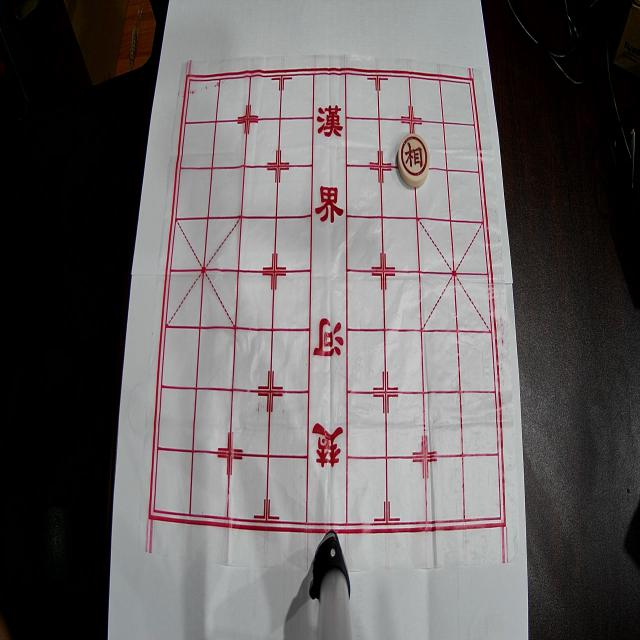red-elephant: (398, 134, 430, 188)
